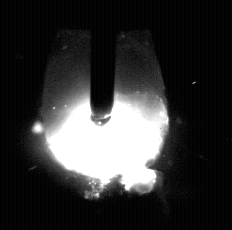arame: (91, 0, 115, 126)
poca: (44, 0, 167, 230)
